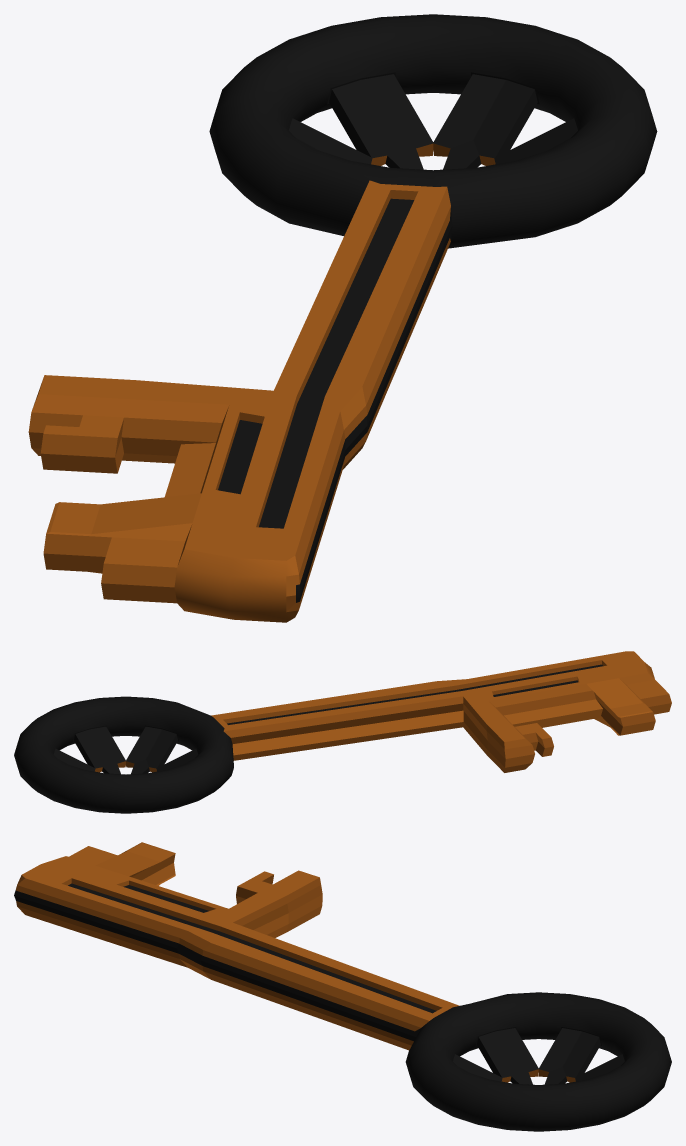
The model's file is golden_key.FBX.
3 renders of one model, top to bottom at view 1: azimuth 30°, elevation 25°; view 2: azimuth 150°, elevation 25°; view 3: azimuth 270°, elevation 25°, orthographic. The views are drawn at different scales.
Parts seen in each view (by area): view 1: Torus001; view 2: Torus001; view 3: Torus001.
Boxes of the visible parts, box(x1,y1,x2,y2) form: Torus001: box(28, 14, 657, 622); Torus001: box(14, 651, 671, 813); Torus001: box(14, 842, 671, 1131).
Bounding box in the file's own units: 265 × 30.75 × 277.
